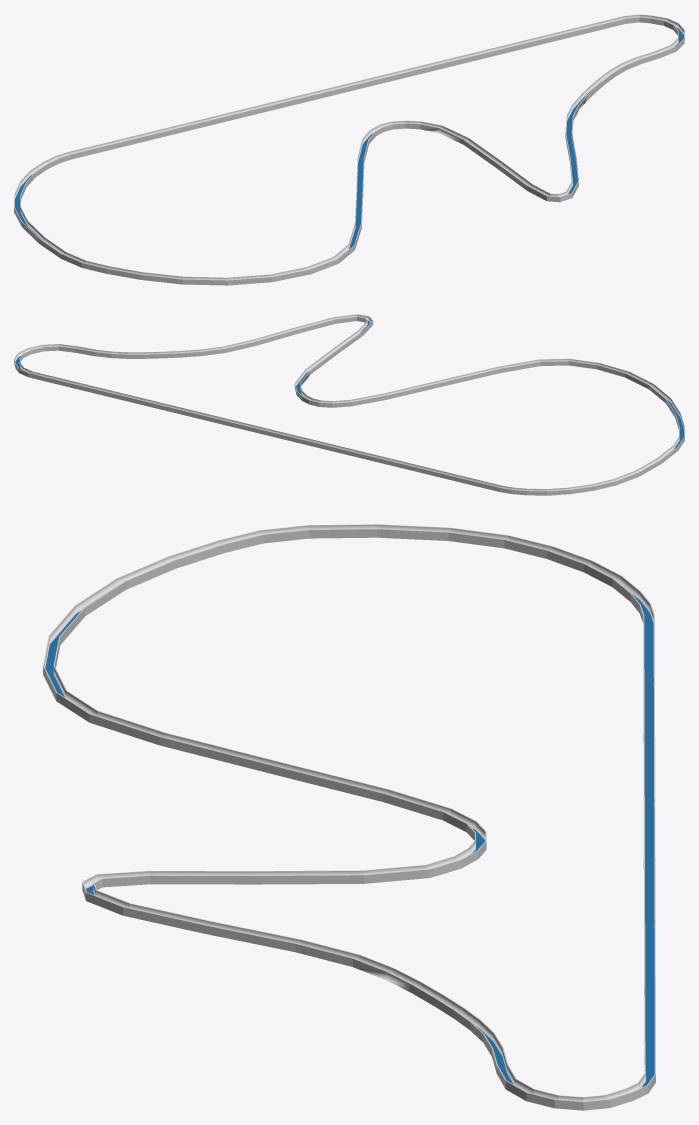
The model's file is Fujiyama-split-100x.fbx.
The picture shows the model from 3 angles, top to bottom: view 1: azimuth 30°, elevation 25°; view 2: azimuth 150°, elevation 25°; view 3: azimuth 270°, elevation 25°; orthographic projection. The views are drawn at different scales.
Parts seen in each view (by area): view 1: walls, path879; view 2: walls, path879; view 3: walls, path879.
Boxes of the visible parts, bbox=[...] form: walls: bbox=[14, 14, 684, 285]; path879: bbox=[14, 27, 683, 257]; walls: bbox=[14, 314, 684, 495]; path879: bbox=[15, 320, 684, 448]; walls: bbox=[43, 524, 655, 1110]; path879: bbox=[45, 587, 654, 1087].
Size of the model in its own units: 585 by 4 by 262.
